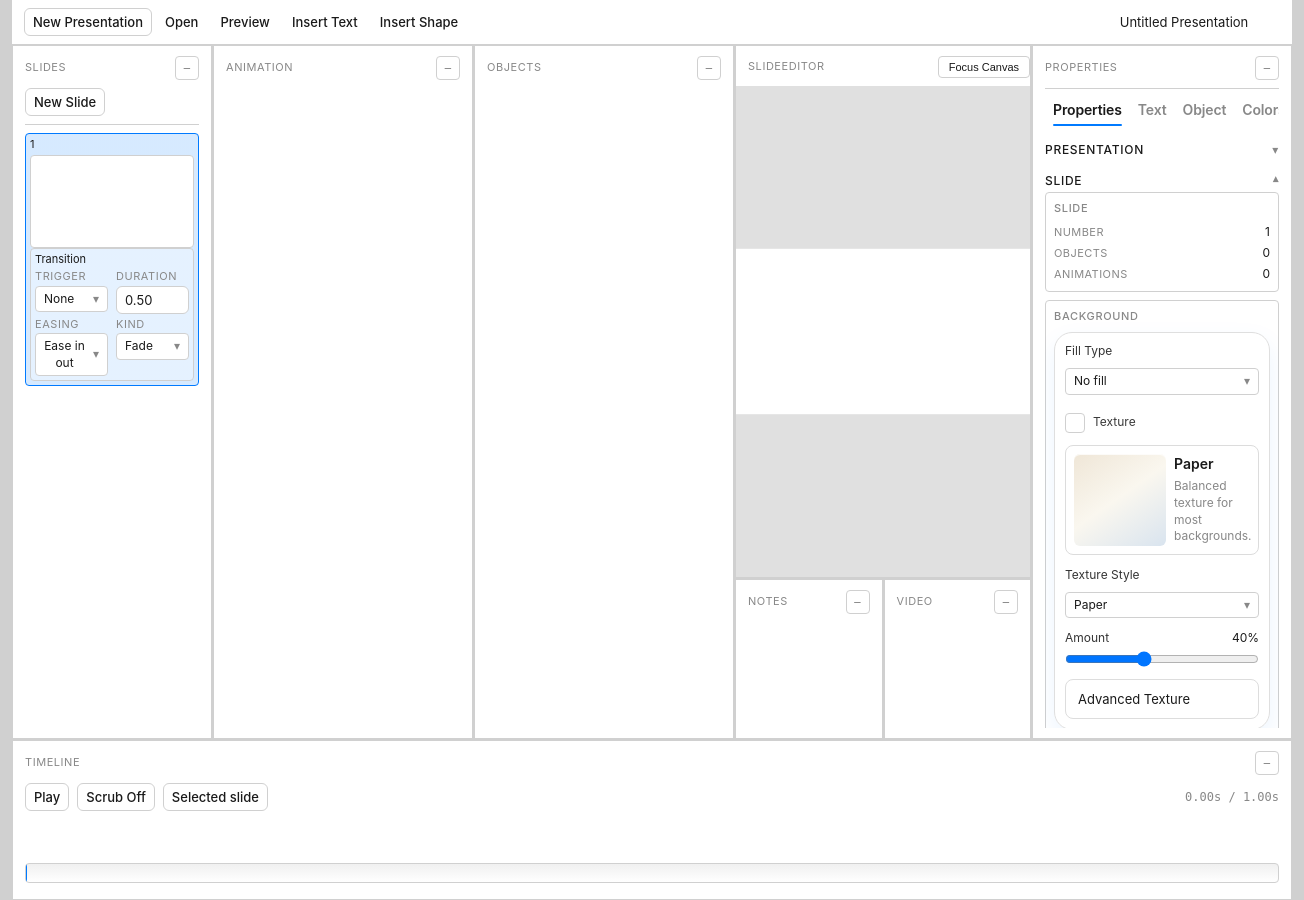
EditorLayout › collapses and restores a side panel using its header control and rail
Click the button named "Collapse Slides panel". click: {"x": 187, "y": 68}
box: [175,56,199,80]
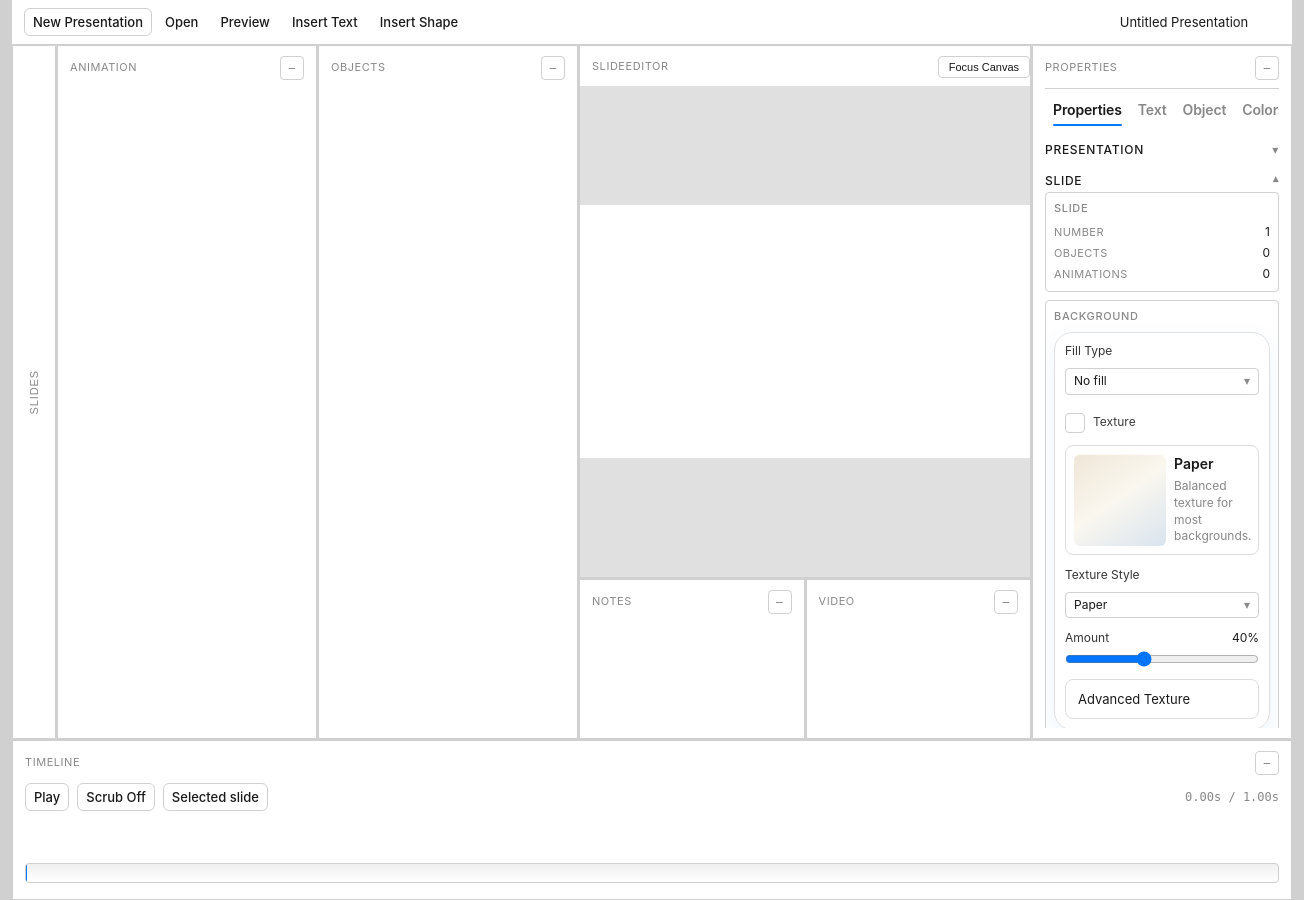
expect the element with test id "slides-panel" is gone: met
Click the button with aria-label "Expand Slides panel". click: {"x": 34, "y": 392}
box: [12,45,56,739]
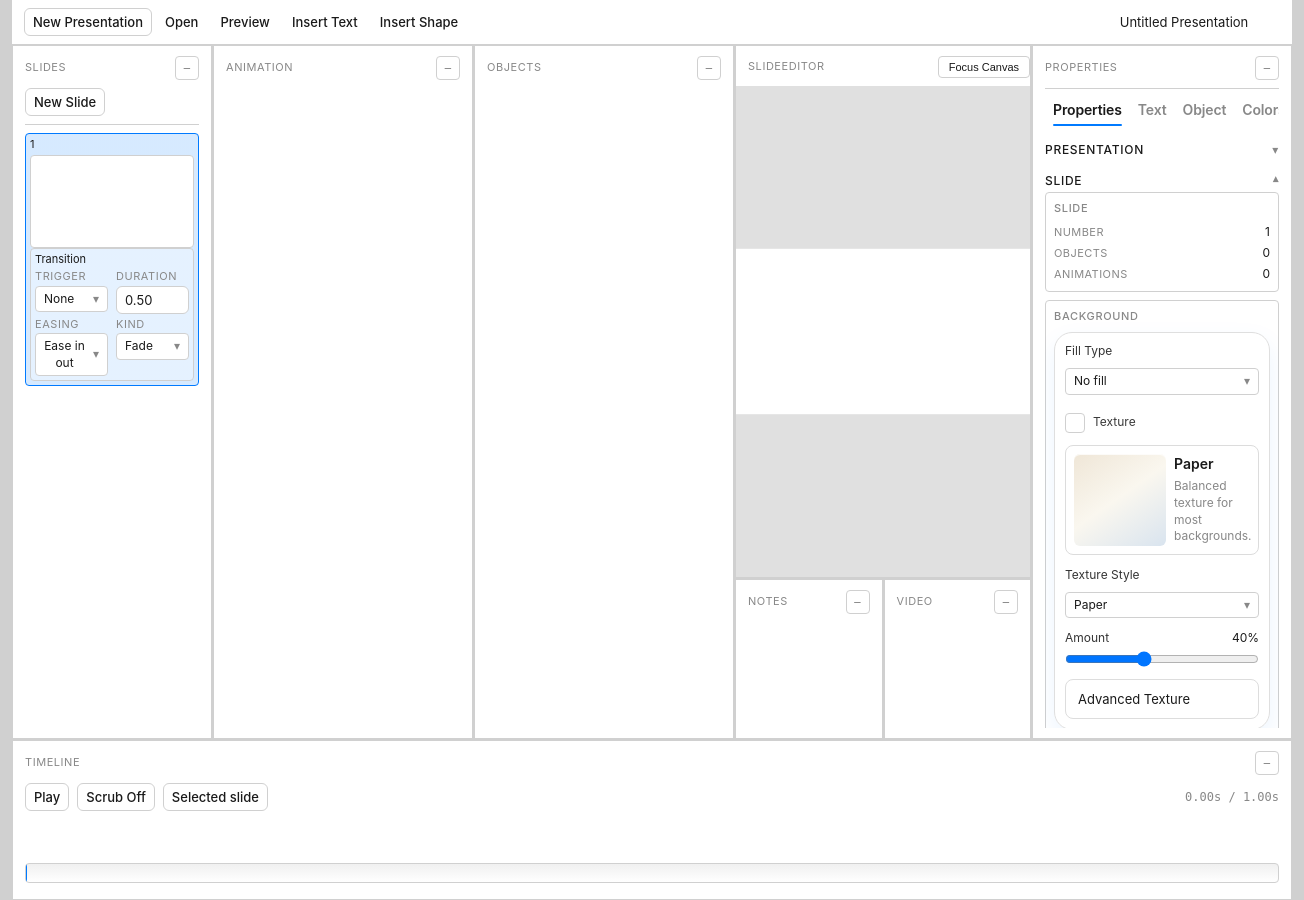
expect the element with test id "slides-panel" is shown: met, box [25,56,199,386]
